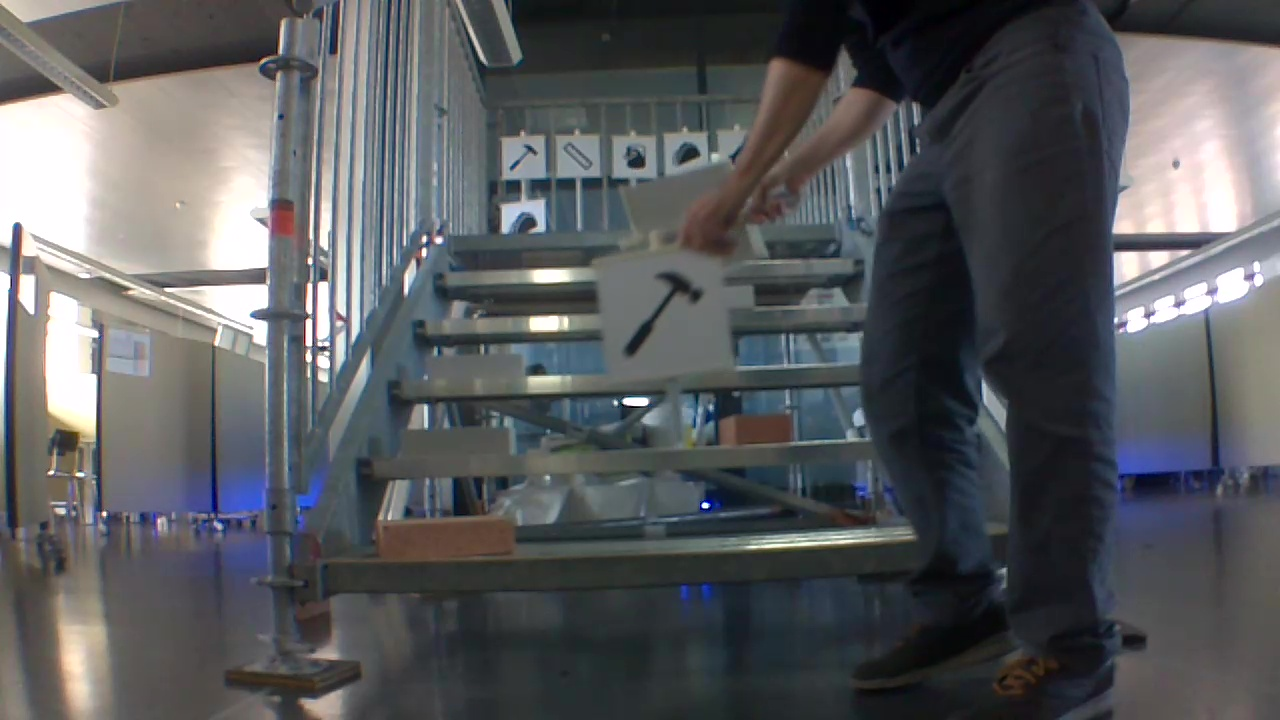brick: (376, 513, 517, 554), (395, 422, 512, 459), (424, 349, 528, 383), (722, 410, 789, 451)
bucket: (623, 140, 652, 170)
edge: (325, 537, 914, 596), (347, 437, 872, 486), (384, 363, 866, 409)
hammer: (625, 264, 706, 355), (507, 143, 538, 173)
ruler: (563, 142, 592, 175)
taco: (671, 140, 703, 165), (509, 210, 536, 235)
